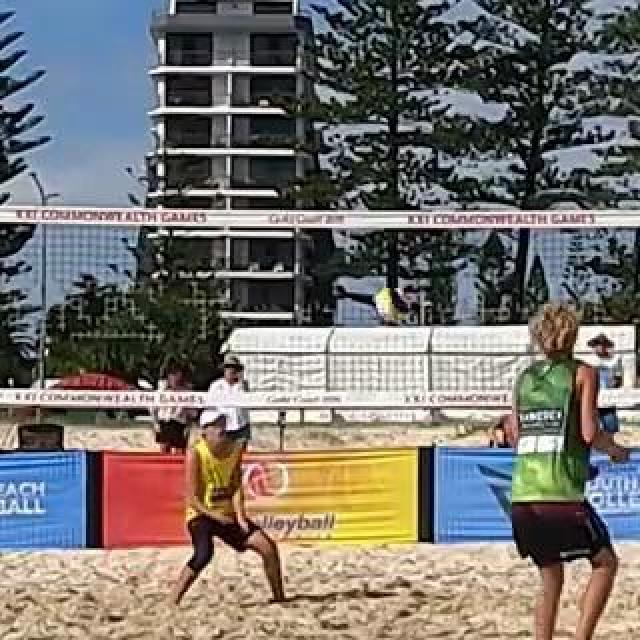volleyball: (375, 286, 413, 320)
